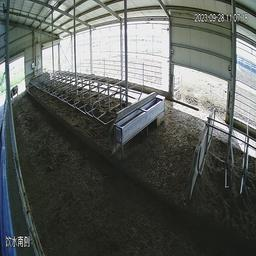cow: (6, 81, 22, 103)
